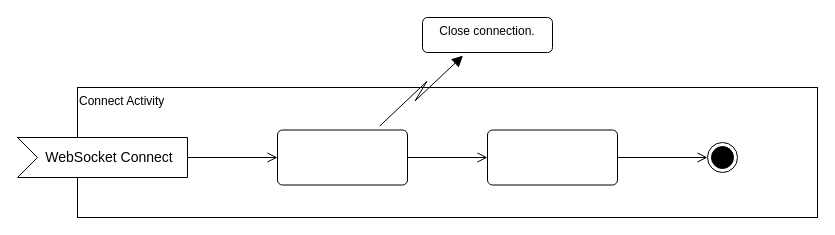
The diagram is 835 pixels wide and 235 high, and some of its shapes have lost their labels. Here are the shapes that lost their labels. From the top down, the centre of each, then its label:
pixel 342 157: Extract player ID from connection request cookie.
pixel 552 157: Register the socket under the extracted player ID.
